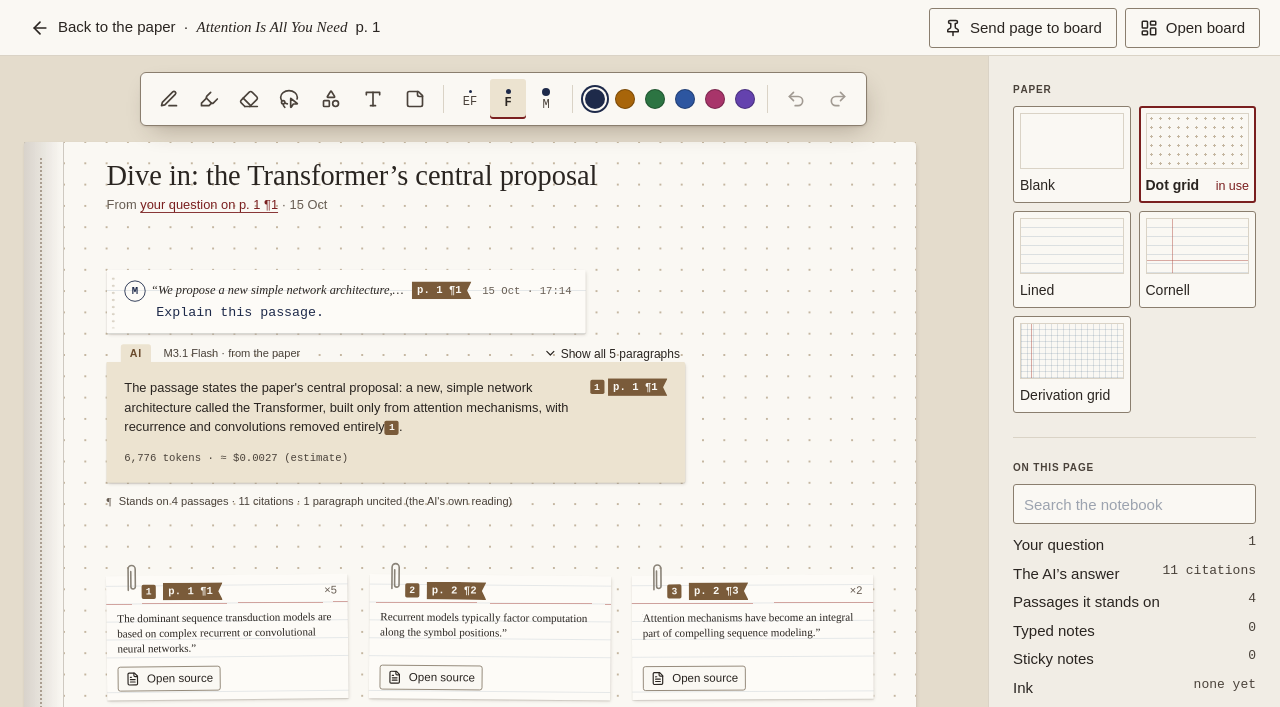
Test: the template’s saving › a failed template save is in the notice, and Try again sends it again
Click the radio button labelled "Lined".
click(1072, 260)  # box [1013, 211, 1130, 308]
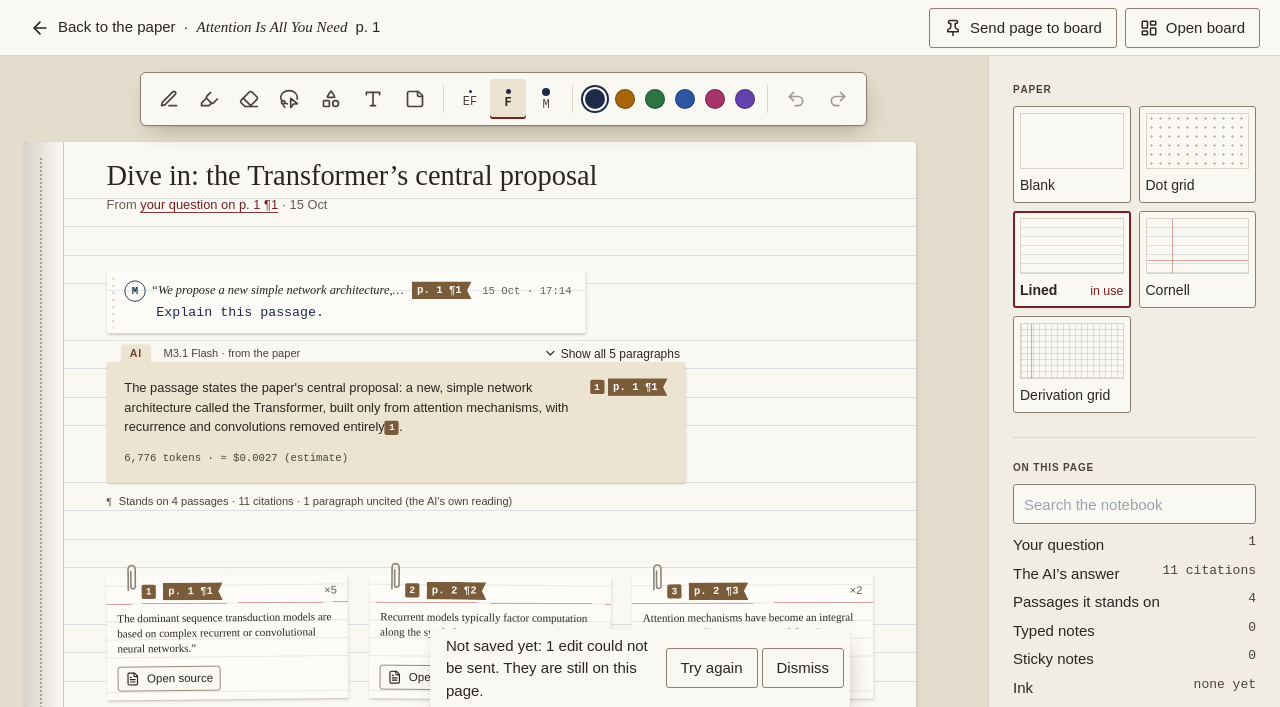
Expected: the text "Not saved yet: 1 edit could not be sent. They are still on this page." is shown, [446, 634, 662, 702]
Click the button "Try again".
click(712, 668)  # box [666, 648, 758, 688]
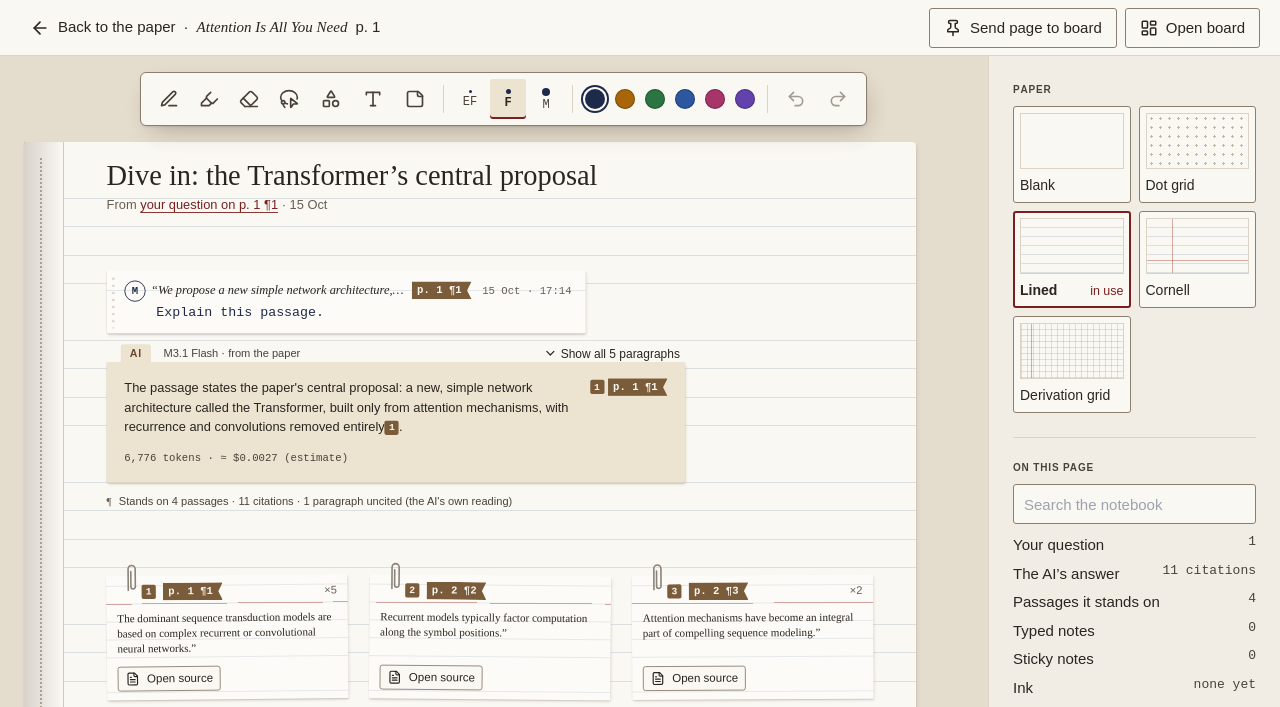
Expected: the text "Not saved" is gone
